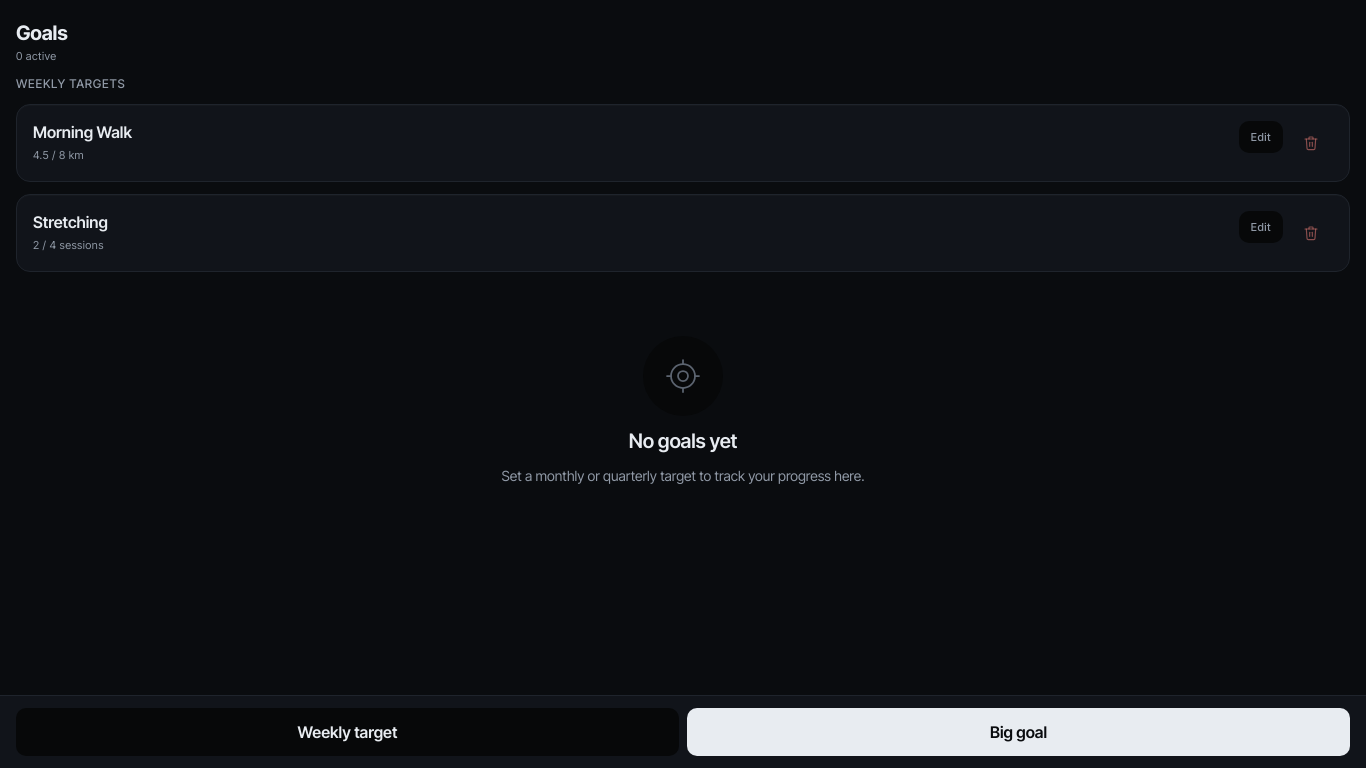
it: GoalsScreen — WTL.F2 weekly targets section › clicking edit opens the editor pre-filled for that weekly target
Expected: the text "Morning Walk" is shown, [33,122,132,142]
Click the button "Edit" in the row of "Morning Walk" at (1261, 137), box [1239,121,1283,153]
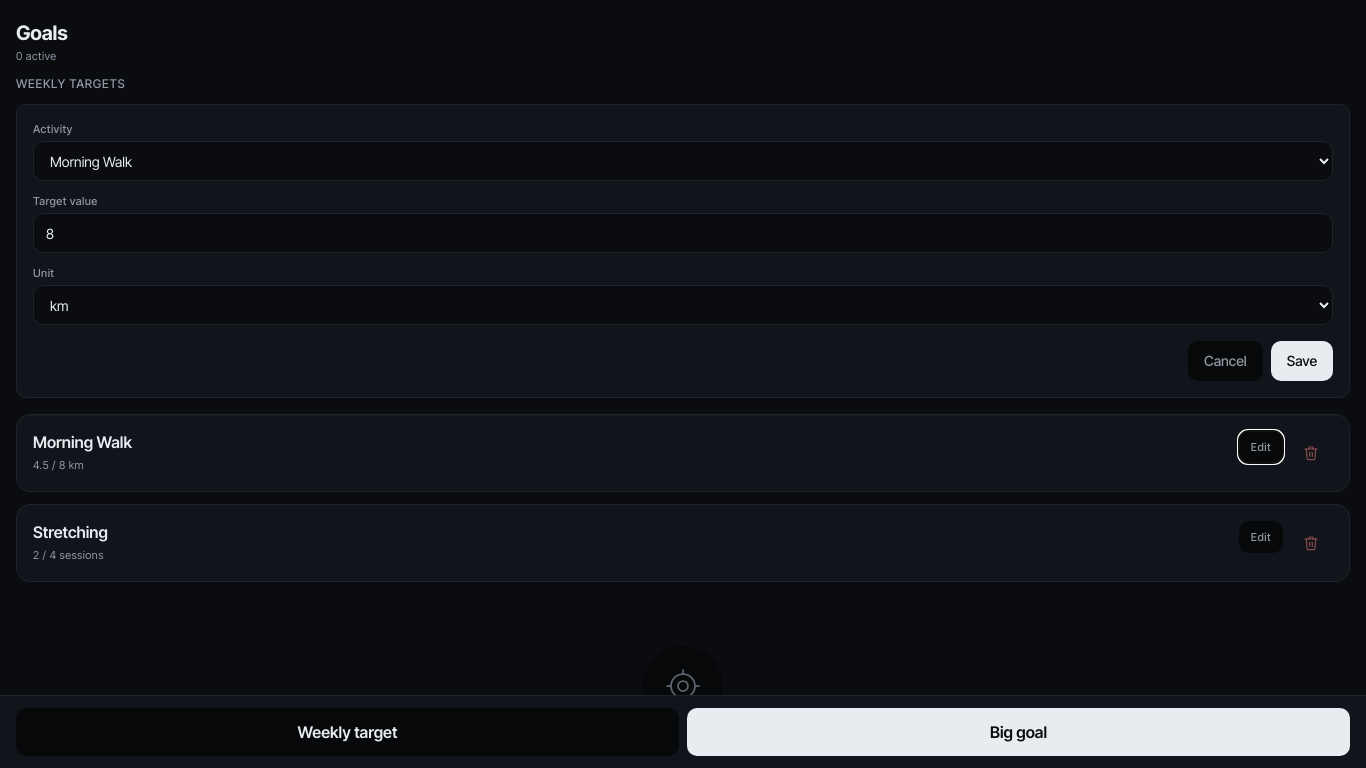
Expected: the dropdown labelled "Activity" shows "Morning Walk", [33,141,1333,181]
Expected: the number field labelled "Target value" holds "8", [33,213,1333,253]
Expected: the dropdown labelled "Unit" shows "km", [33,285,1333,325]
